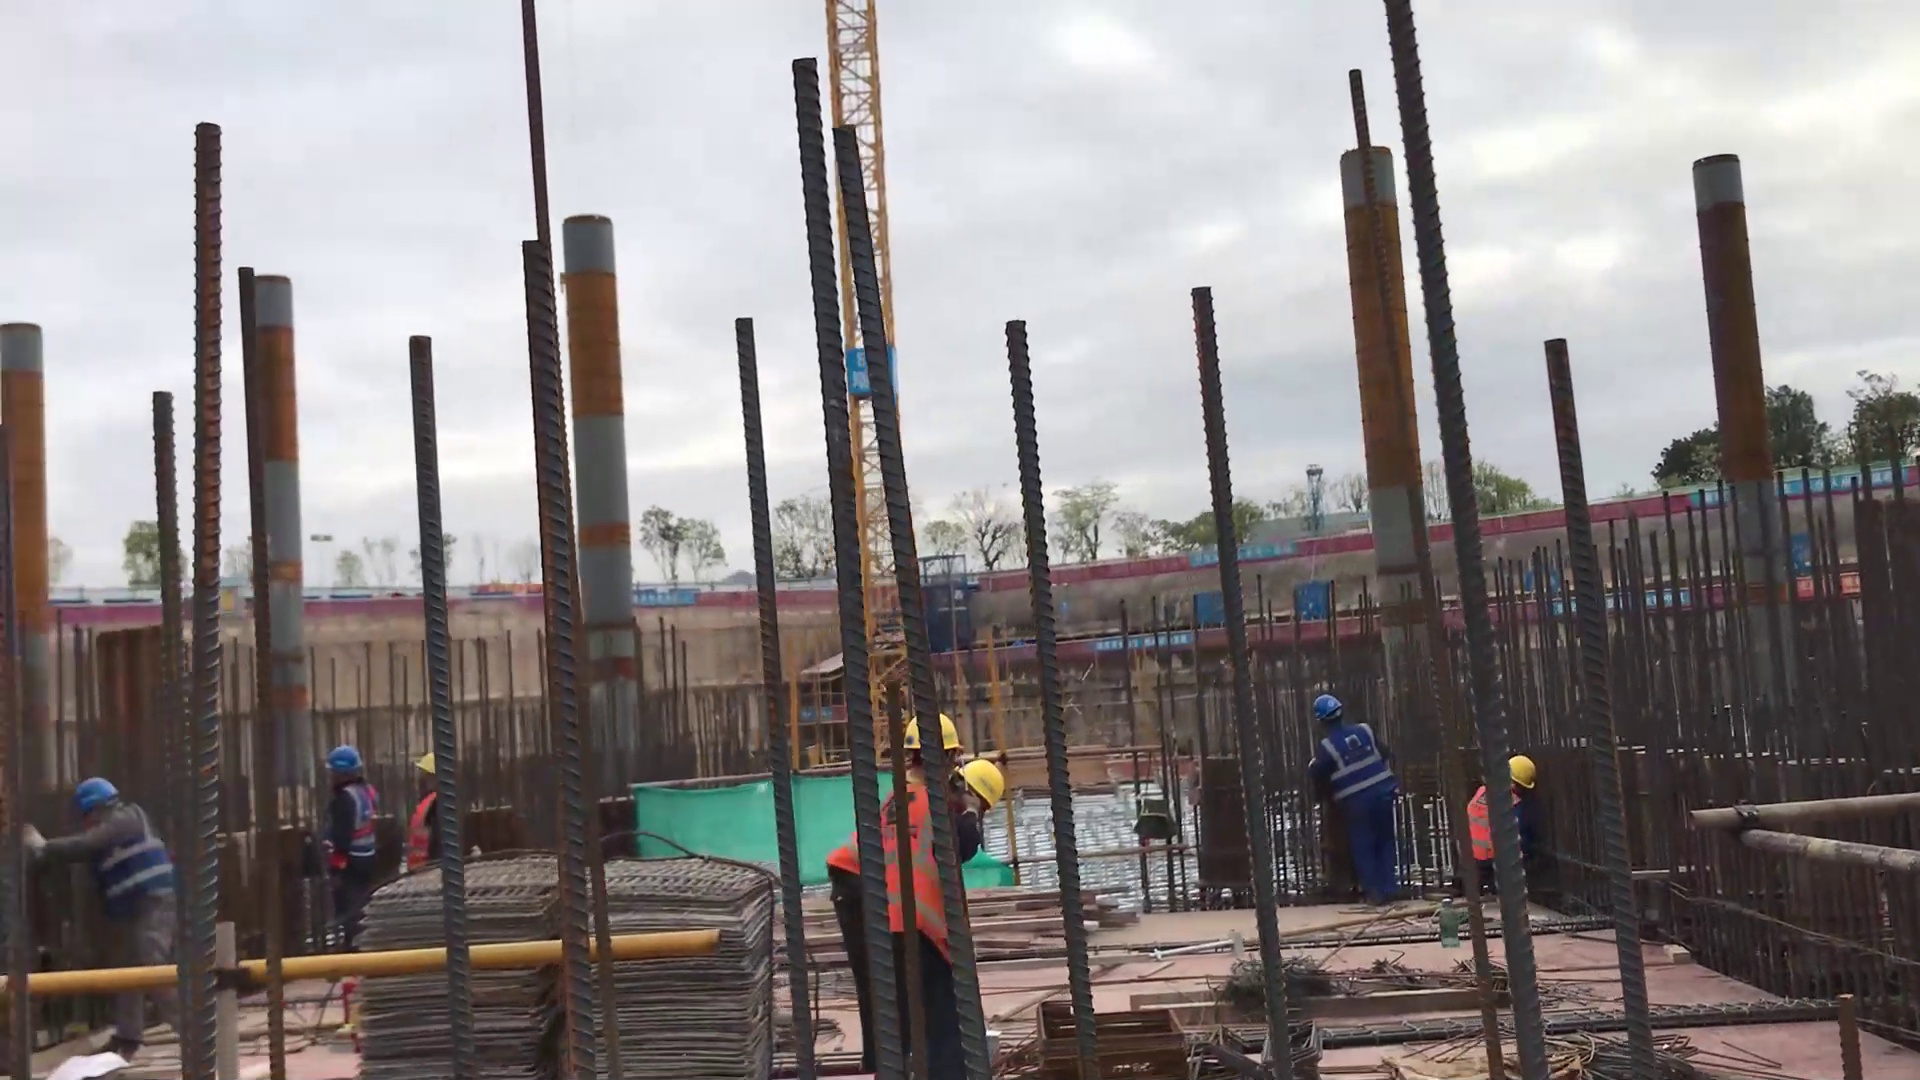helmet: (901, 710, 966, 757), (69, 774, 136, 808), (959, 762, 1001, 815), (1494, 758, 1539, 801), (1302, 693, 1351, 727), (412, 746, 443, 776), (335, 746, 367, 770)
person: (19, 766, 177, 953), (1302, 680, 1404, 873), (313, 741, 385, 926), (400, 746, 438, 877)
vest: (80, 818, 175, 917), (1312, 733, 1391, 815), (335, 785, 380, 870), (406, 792, 436, 878)
